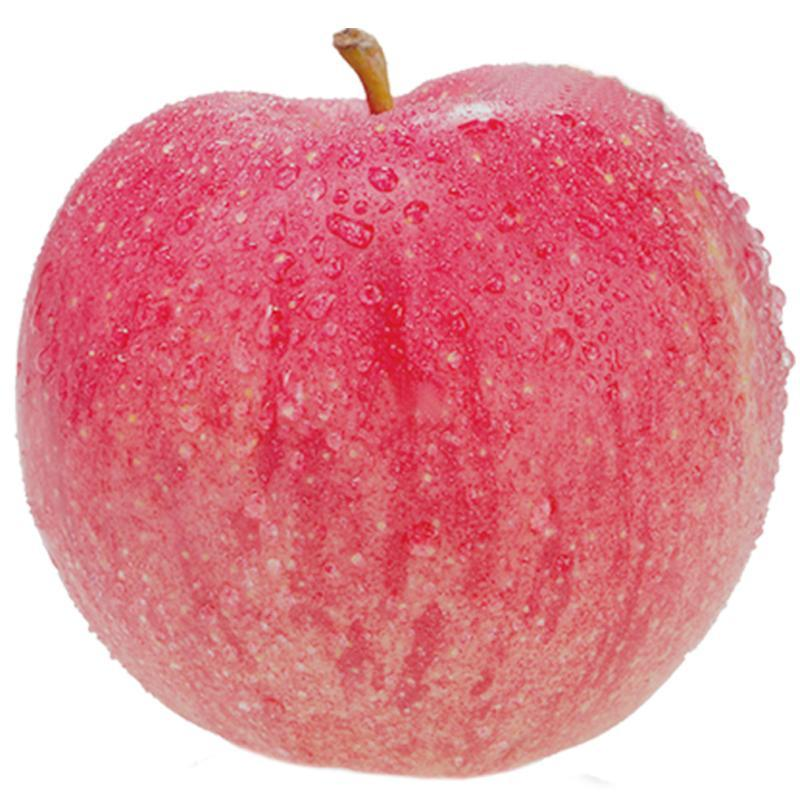apple: (22, 36, 779, 785)
